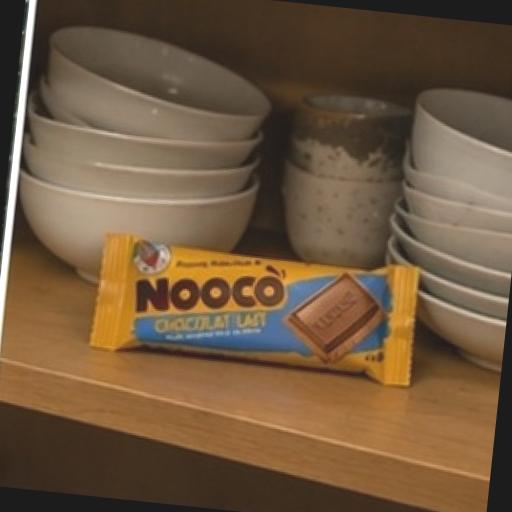nooco: (50, 183, 468, 449)
